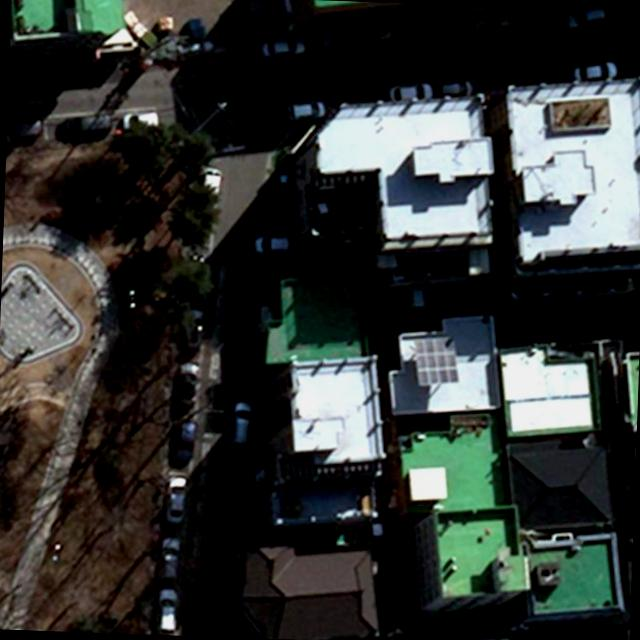solar: (412, 331, 458, 388)
